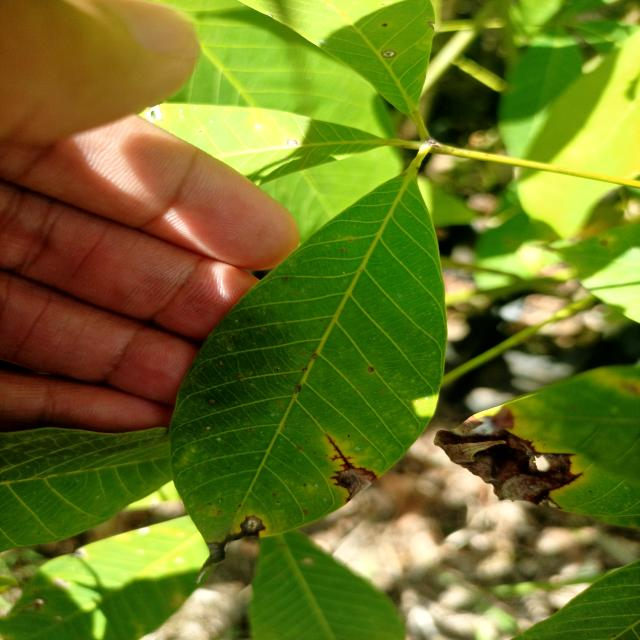Colletotrichum: (382, 50, 396, 59), (368, 367, 373, 372), (302, 368, 307, 372)
Corynespora: (325, 434, 354, 470)
Leaf-Blight: (432, 414, 579, 509), (196, 515, 264, 584), (339, 469, 374, 499)
